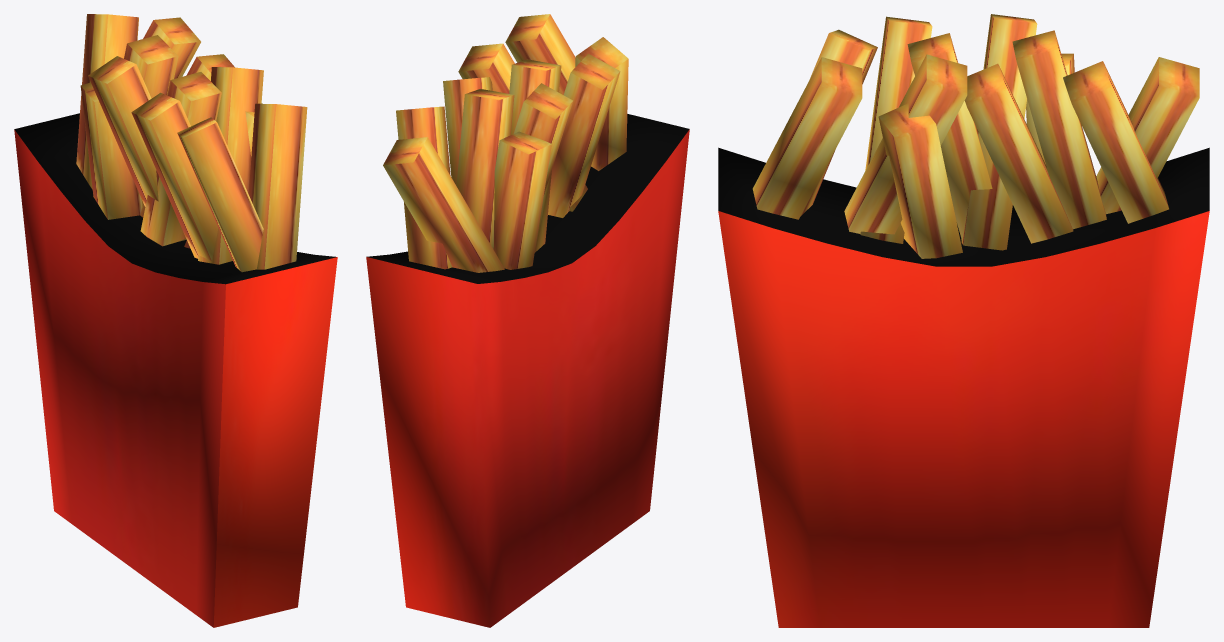
Rendered from Potato Free.fbx.
3 renders of one model, left to right at view 1: azimuth 30°, elevation 25°; view 2: azimuth 150°, elevation 25°; view 3: azimuth 270°, elevation 25°, orthographic. The views are drawn at different scales.
Parts seen in each view (by area): view 1: Коробка, Картошка; view 2: Коробка, Картошка; view 3: Коробка, Картошка.
Boxes of the visible parts, box(x1,y1,x2,y2) form: Коробка: box(14, 113, 337, 627); Картошка: box(76, 14, 307, 272); Коробка: box(366, 114, 689, 627); Картошка: box(383, 14, 628, 272); Коробка: box(718, 147, 1209, 627); Картошка: box(752, 14, 1199, 258).
Bounding box in the file's own units: 78.16 × 257 × 200.
